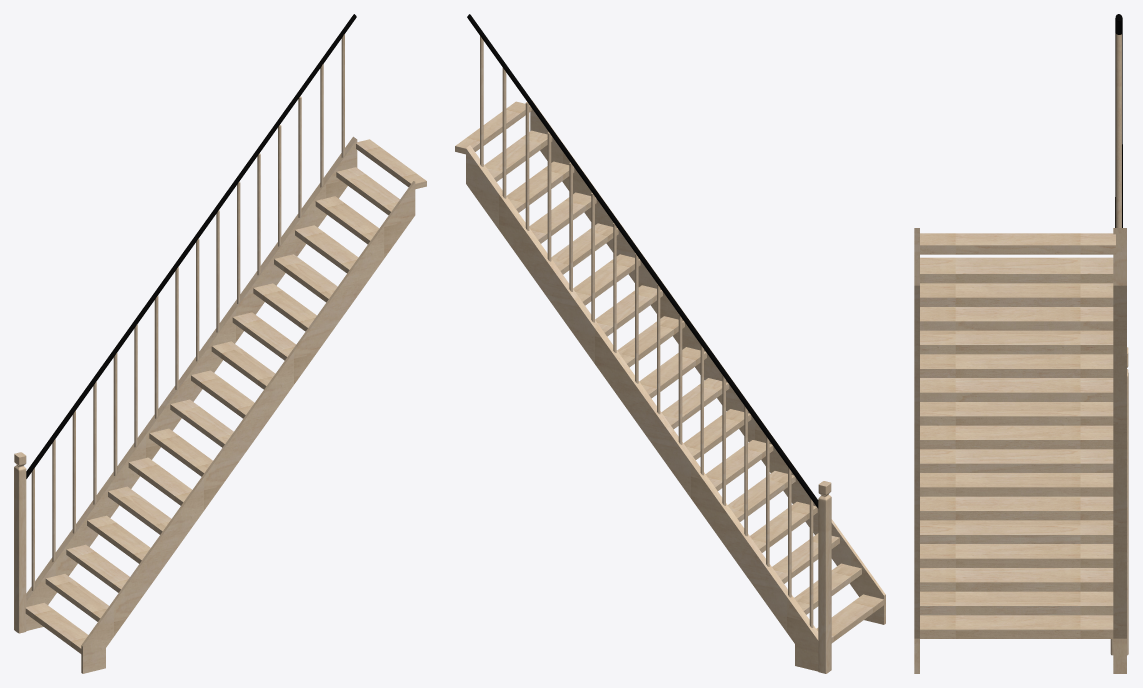
File: escaleras.obj
3 renders of one model, left to right at view 1: azimuth 30°, elevation 25°; view 2: azimuth 150°, elevation 25°; view 3: azimuth 270°, elevation 25°, orthographic. The views are drawn at different scales.
Visible parts, largest first — view 1: wood_stairs:Cylinder017; view 2: wood_stairs:Cylinder017; view 3: wood_stairs:Cylinder017.
Part boxes in pixels (x1,y1,x2,y2): wood_stairs:Cylinder017: (14,14,426,673); wood_stairs:Cylinder017: (455,14,885,673); wood_stairs:Cylinder017: (914,14,1128,673).
Size of the model in its own units: 5.99 by 8.7 by 1.84.
